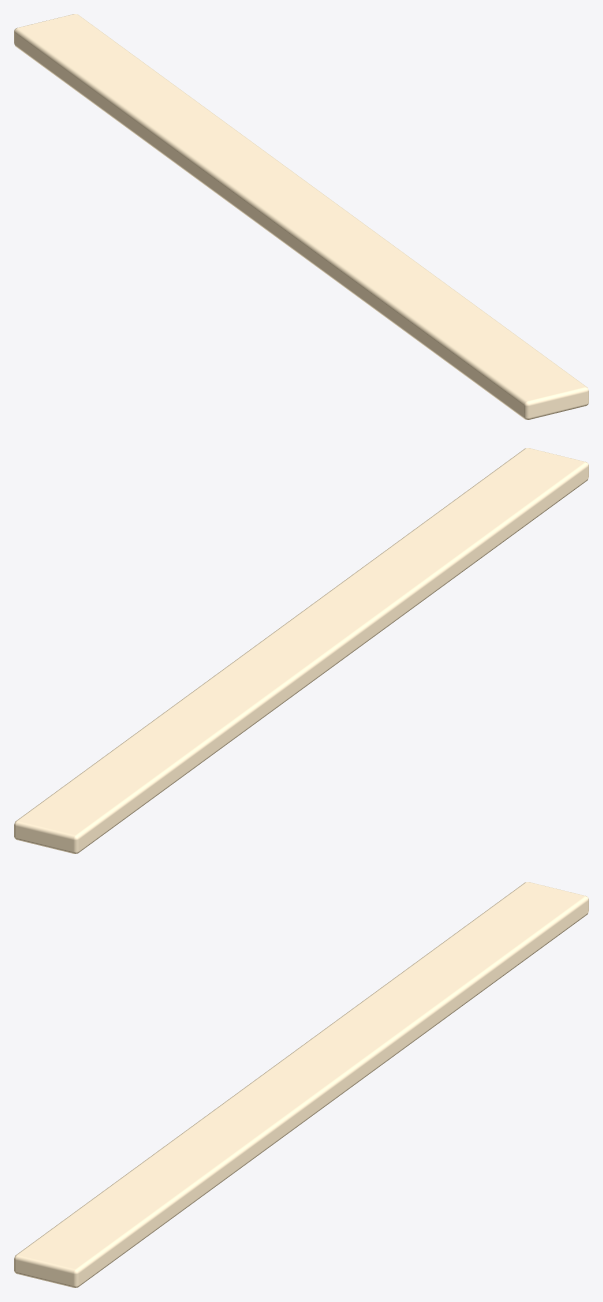
Rendered from light-strip.glb.
The picture shows the model from 3 angles, top to bottom: view 1: azimuth 30°, elevation 25°; view 2: azimuth 150°, elevation 25°; view 3: azimuth 330°, elevation 25°; orthographic projection.
Visible parts, largest first — view 1: light_recess; view 2: light_recess; view 3: light_recess.
Part boxes in pixels (left/top/right/bottom): light_recess: left=14, top=14, right=588, bottom=419; light_recess: left=14, top=448, right=588, bottom=853; light_recess: left=14, top=882, right=588, bottom=1287.
Bounding box in the file's own units: 0.16 × 0.0585 × 2.2.
